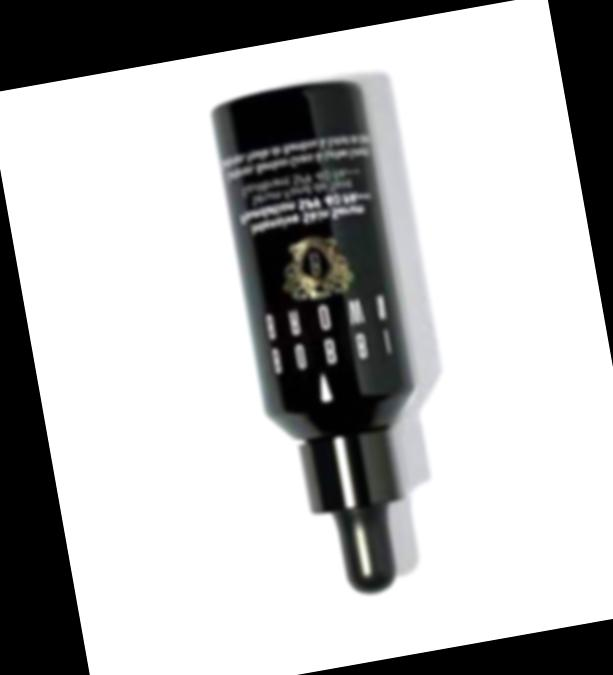cosmetic: (205, 85, 447, 608)
